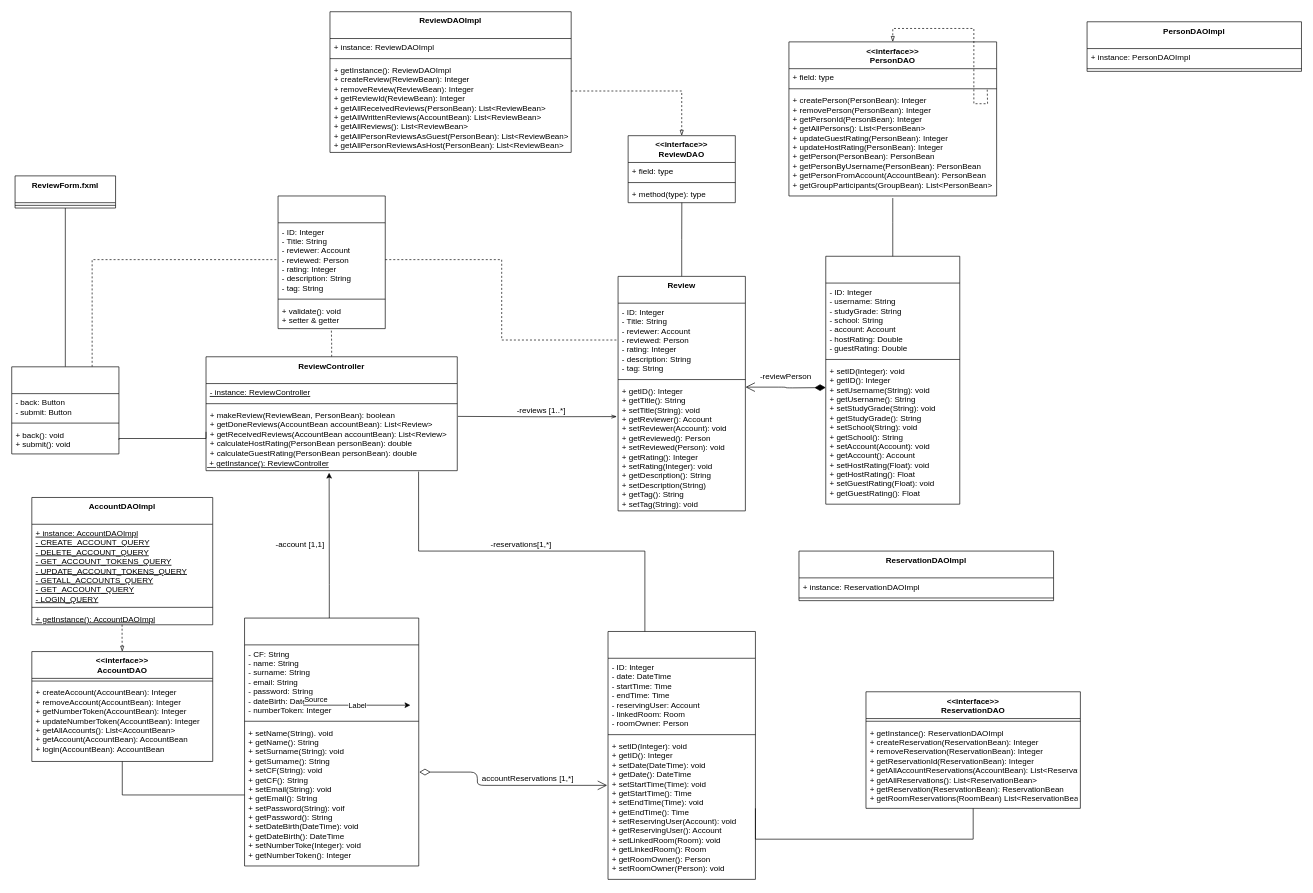
Some shapes in this 1313 by 893 pixel diagram are drawn without their labels. Each missing label, with the box of its shape:
Account: (244, 617, 419, 866)
Person: (825, 256, 960, 504)
Reservation: (607, 631, 755, 879)
ReviewBean: (277, 195, 385, 329)
ReviewFormGC: (11, 366, 119, 454)
